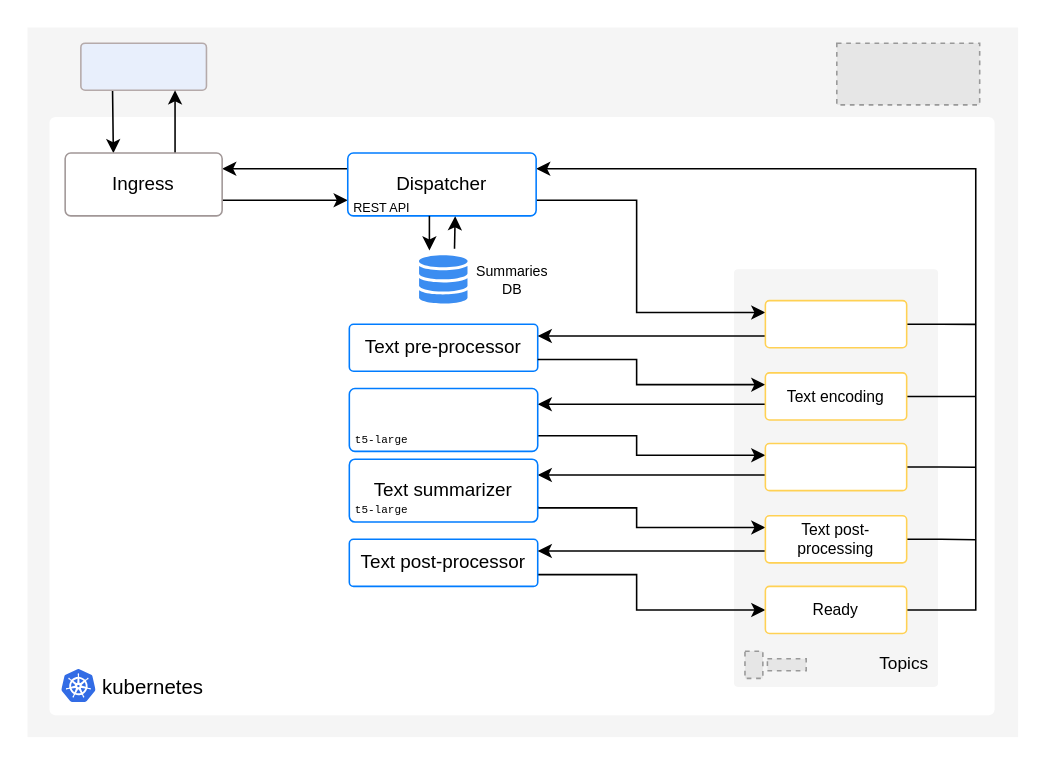
Image size: 1044x763. Some labels were removed from this diagram. Grey dashed boxes stand in for pictures. Each missing label, with the box of its shape:
Client: (79, 42, 206, 90)
Text encoder: (348, 387, 538, 451)
Text pre- processing: (764, 299, 907, 348)
Text summa- rization: (764, 442, 907, 491)
